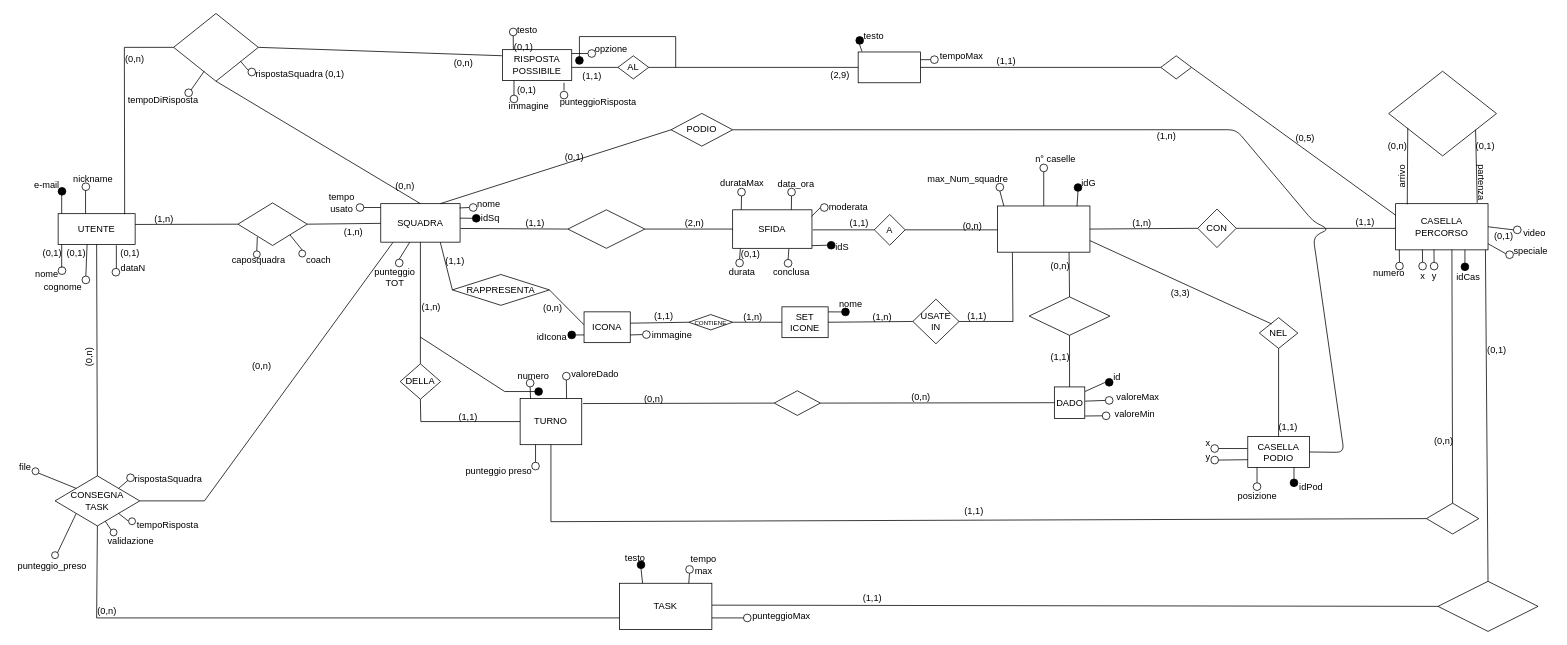
Image size: 1567x645. Some labels were removed from this diagram. Here are the shapes that lost their labels. From the top down, the centre of each, then its label:
point (215, 47): RISPOSTA QUIZ UTENTE
point (889, 67): QUIZ
point (1176, 67): IN
point (1442, 113): DESTINAZIONE CASELLA SPECIALE
point (272, 223): APPARTIENE
point (606, 228): PARTECIPA
point (1043, 228): GIOCO
point (1069, 315): UTILIZZABILI
point (796, 402): USATI
point (1452, 518): PARTE
point (1487, 606): CORRISPONDE A
